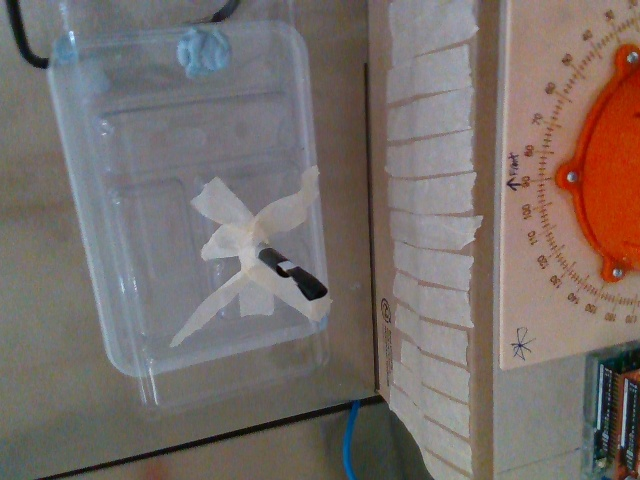test_strip: (278, 260, 328, 302)
